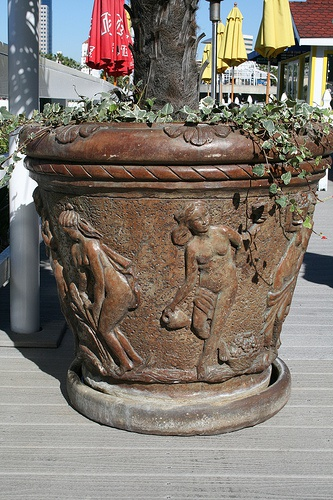flowerpot: (21, 125, 332, 438)
